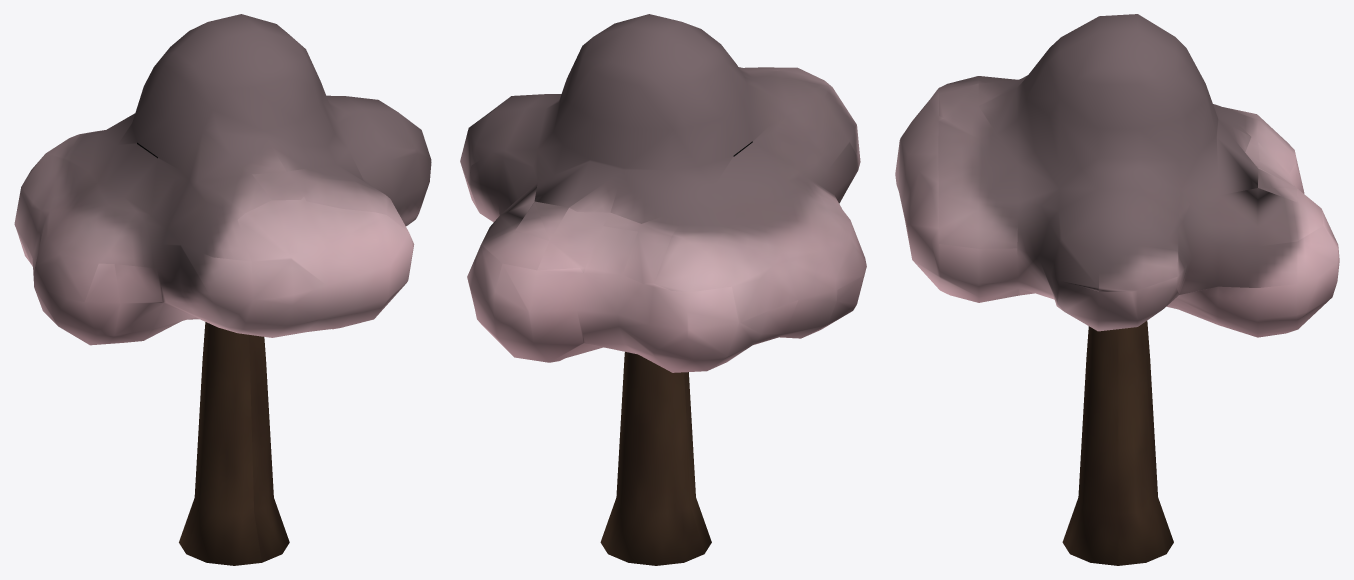
The model's file is TreeBlossom.fbx.
3 views of the same model, side by side, from view 1: azimuth 30°, elevation 25°; view 2: azimuth 150°, elevation 25°; view 3: azimuth 270°, elevation 25° (orthographic).
Parts seen in each view (by area): view 1: TreeBlossom_Body_LOD0; view 2: TreeBlossom_Body_LOD0; view 3: TreeBlossom_Body_LOD0.
Boxes of the visible parts, x1,y1,x2,y2 form: TreeBlossom_Body_LOD0: (14,14,431,565); TreeBlossom_Body_LOD0: (460,14,866,565); TreeBlossom_Body_LOD0: (895,14,1339,565).
Size of what is drawn, in the model's own units: 2.23 by 2.88 by 2.23.
